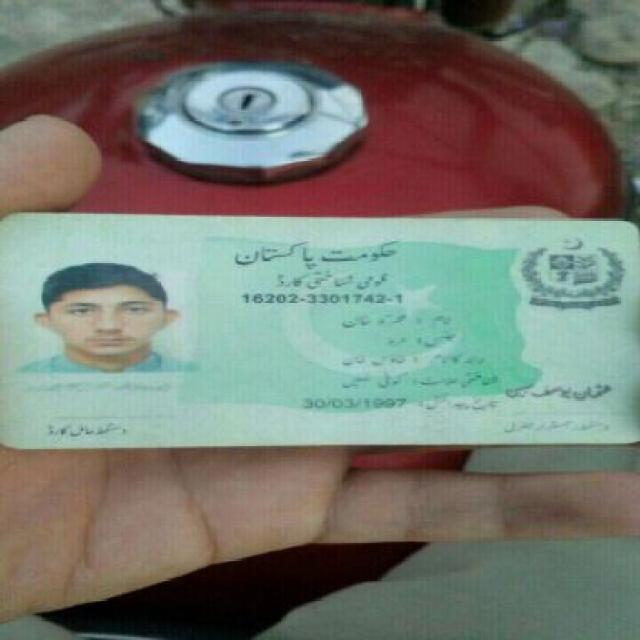Front: (6, 197, 632, 457)
